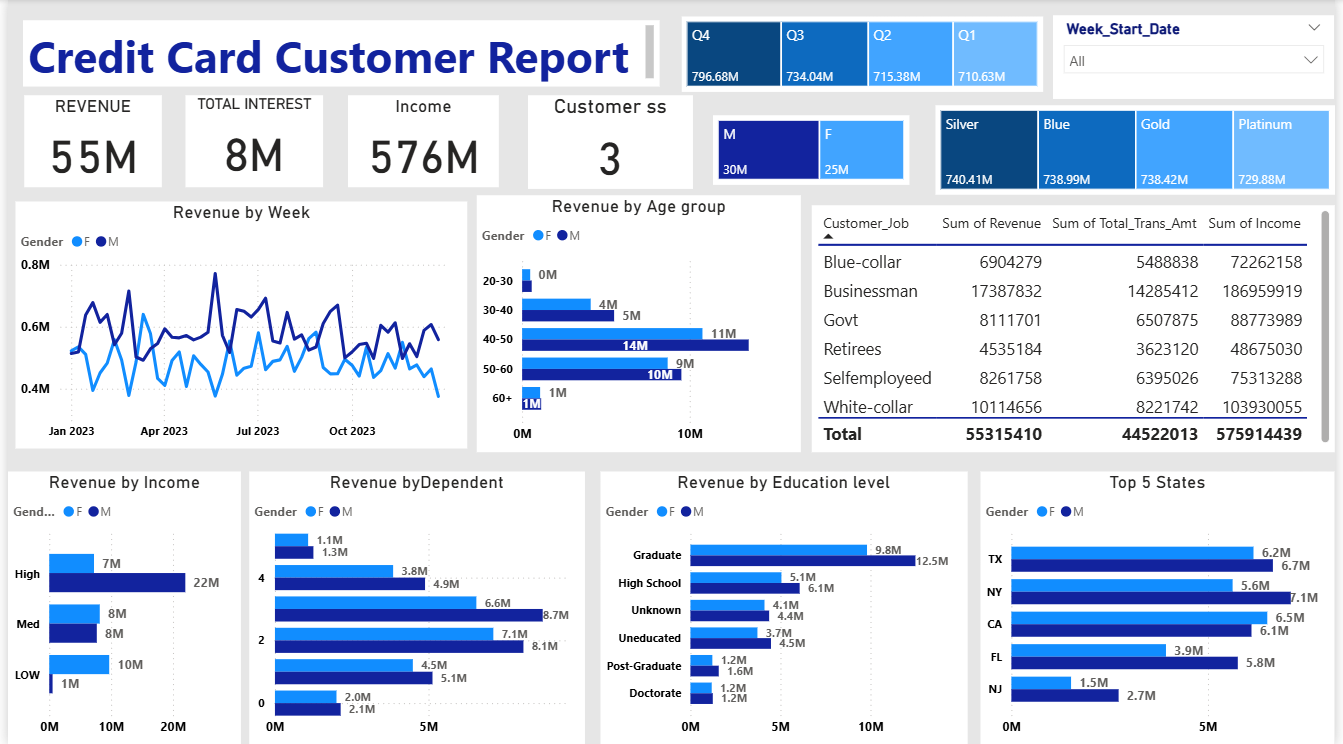

The dashboard page shown, as its layout file describes it:
{"tool":"powerbi","page":{"name":"customercc dashboard","canvas":[1280,720],"ordinal":2},"visuals":[{"type":"textbox","box":[14.5,20.5,614.1,63.9],"z":0},{"type":"clusteredBarChart","title":"Revenue by Income","fields":{"Y":["Sum(credit_card.Revenue)"],"Category":["customer.Incomegroup"],"Series":["customer.Gender"]},"box":[0,455.6,225,264.8],"z":1000},{"type":"tableEx","fields":{"Values":["customer.Customer_Job","Sum(credit_card.Revenue)","Sum(credit_card.Total_Trans_Amt)","Sum(customer.Income)"]},"box":[775.3,199,505,238.8],"z":2000},{"type":"group","id":"g1","title":"Group 1","box":[15.1,93.3,644.9,90.6],"z":3000},{"type":"slicer","fields":{"Values":["credit_card.Week_Start_Date"]},"box":[1008.6,15.7,271.4,80.8],"z":4000},{"type":"treemap","fields":{"Group":["credit_card.Qtr"],"Values":["Avg(credit_card.Client_Num)"]},"box":[650.4,16.5,348.5,72.7],"z":5000},{"type":"treemap","fields":{"Values":["Avg(credit_card.Client_Num)"],"Group":["credit_card.Card_Category"]},"box":[894.7,102.9,385.6,86.4],"z":6000},{"type":"lineChart","title":" Revenue by Week","fields":{"Y":["Sum(credit_card.Revenue)"],"Series":["customer.Gender"],"Category":["credit_card.Week_Start_Date.Variation.Date Hierarchy.Year","credit_card.Week_Start_Date.Variation.Date Hierarchy.Month","credit_card.Week_Start_Date.Variation.Date Hierarchy.Day"]},"box":[6.9,194.9,436.4,238.8],"z":7000},{"type":"treemap","fields":{"Group":["customer.Gender"],"Values":["Sum(credit_card.Revenue)"]},"box":[680.6,112.5,189.4,67.2],"z":8000},{"type":"card","title":"REVENUE","fields":{"Values":["Sum(credit_card.Revenue)"]},"box":[15.1,93.4,132.8,89.2],"z":9000,"group":"g1"},{"type":"clusteredBarChart","title":"Revenue by Age group","fields":{"Y":["Sum(credit_card.Revenue)"],"Category":["customer.Agegroup"],"Series":["customer.Gender"]},"box":[452.8,189.4,312.9,248.4],"z":9000},{"type":"card","title":"TOTAL INTEREST","fields":{"Values":["Sum(credit_card.Interest_Earned)"]},"box":[171.2,93.4,132.8,89.2],"z":10000,"group":"g1"},{"type":"clusteredBarChart","title":"Revenue byDependent","fields":{"Y":["Sum(credit_card.Revenue)"],"Category":["customer.Dependent_Count"],"Series":["customer.Gender"]},"box":[233.3,455.6,323.8,264.8],"z":10000},{"type":"card","title":"Income","fields":{"Values":["Sum(customer.Income)"]},"box":[327.8,93.3,145.9,89.2],"z":11000,"group":"g1"},{"type":"clusteredBarChart","title":"Revenue by Education level","fields":{"Y":["Sum(credit_card.Revenue)"],"Category":["customer.Education_Level"],"Series":["customer.Gender"]},"box":[572.2,455.6,354,264.8],"z":11000},{"type":"card","title":"Customer ss","fields":{"Values":["Avg(customer.Cust_Satisfaction_Score)"]},"box":[500.7,93.7,159.2,90.6],"z":12000,"group":"g1"},{"type":"clusteredBarChart","title":"Top 5 States","fields":{"Y":["Sum(credit_card.Revenue)"],"Category":["customer.state_cd"],"Series":["customer.Gender"]},"box":[938.6,455.6,341.7,264.8],"z":12000}]}

Visuals, with their boxes in screenshot pixels (x1, y1, x2, y2), scaled from the page's 1280x720 canvas onto the 1343x744 screenshot:
textbox: 15:21:660:87
"Revenue by Income" clusteredBarChart: 0:471:236:743
tableEx - customer.Customer_Job x Sum(credit_card.Revenue): 813:206:1342:452
"Group 1" group: 16:96:692:190
slicer - credit_card.Week_Start_Date: 1058:16:1342:100
treemap - credit_card.Qtr x Avg(credit_card.Client_Num): 682:17:1048:92
treemap - Avg(credit_card.Client_Num) x credit_card.Card_Category: 939:106:1342:196
" Revenue by Week" lineChart: 7:201:465:448
treemap - customer.Gender x Sum(credit_card.Revenue): 714:116:913:186
"REVENUE" card: 16:97:155:189
"Revenue by Age group" clusteredBarChart: 475:196:803:452
"TOTAL INTEREST" card: 180:97:319:189
"Revenue byDependent" clusteredBarChart: 245:471:585:743
"Income" card: 344:96:497:189
"Revenue by Education level" clusteredBarChart: 600:471:972:743
"Customer ss" card: 525:97:692:190
"Top 5 States" clusteredBarChart: 985:471:1342:743
